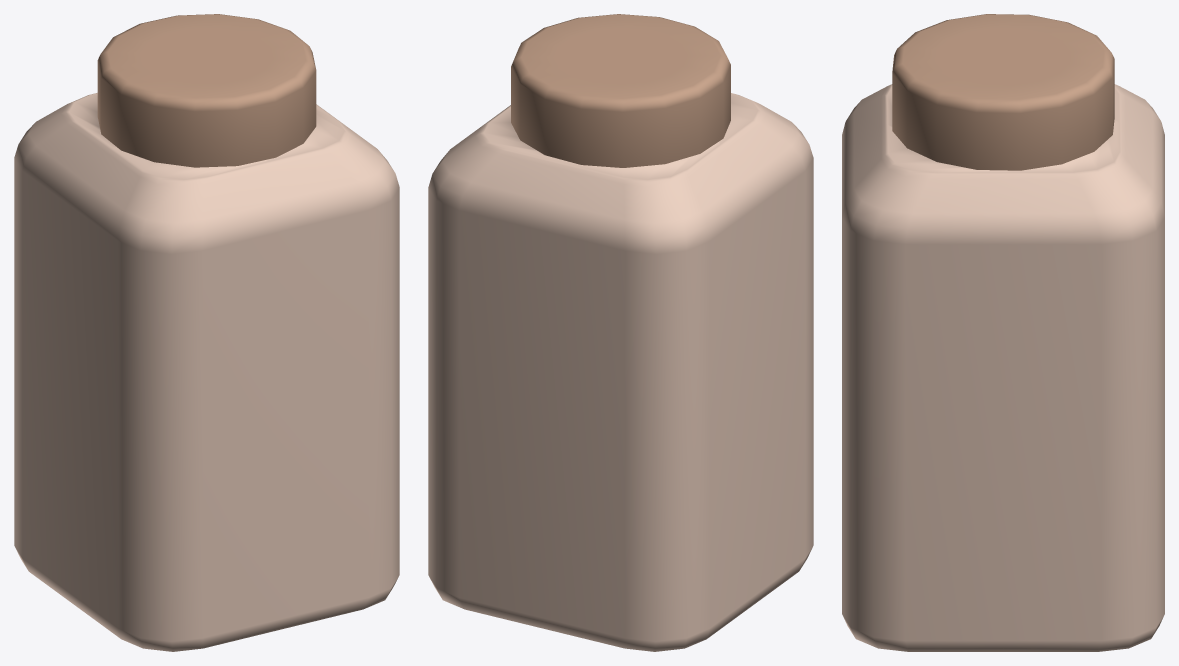
Rendered from UmeboshiJar.fbx.
The picture shows the model from 3 angles, left to right: view 1: azimuth 30°, elevation 25°; view 2: azimuth 150°, elevation 25°; view 3: azimuth 270°, elevation 25°; orthographic projection. The views are drawn at different scales.
Parts seen in each view (by area): view 1: jar, cover; view 2: jar, cover; view 3: jar, cover.
Part boxes in pixels (left/top/right/bottom): jar: left=14, top=93, right=399, bottom=651; cover: left=97, top=14, right=316, bottom=167; jar: left=428, top=93, right=813, bottom=651; cover: left=511, top=14, right=730, bottom=167; jar: left=842, top=84, right=1164, bottom=651; cover: left=892, top=14, right=1114, bottom=170.
Size of the model in its own units: 17.97 by 32.84 by 17.97.
